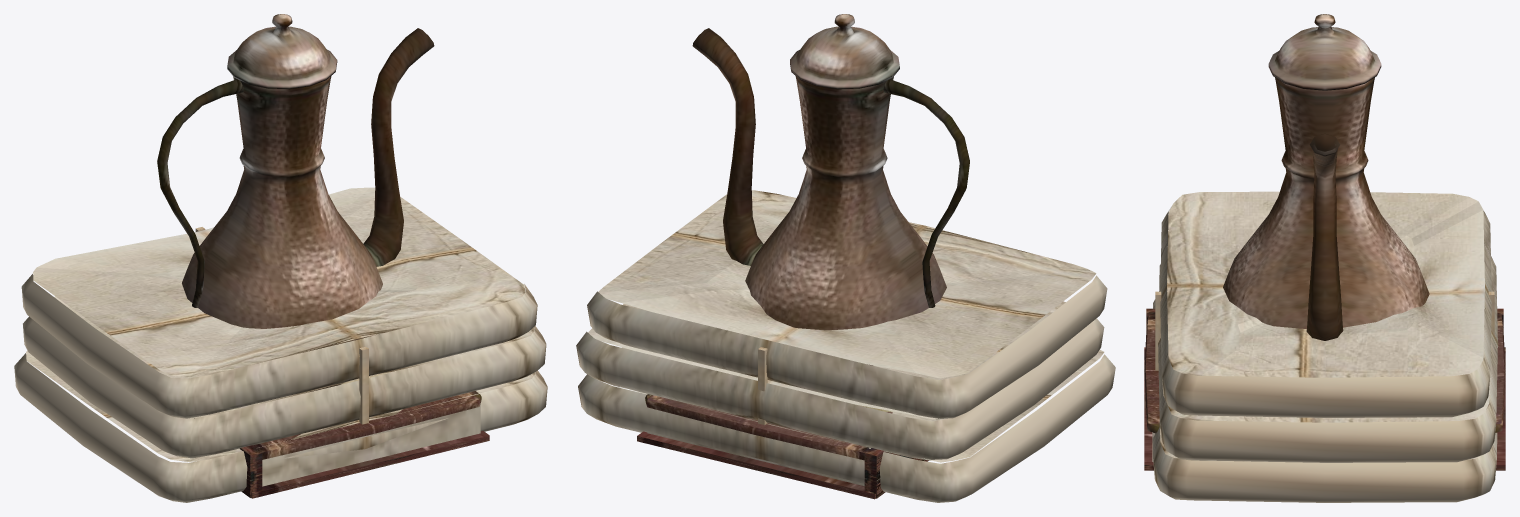
File: emanet.glb
The picture shows the model from 3 angles, left to right: view 1: azimuth 30°, elevation 25°; view 2: azimuth 150°, elevation 25°; view 3: azimuth 270°, elevation 25°; orthographic projection.
Parts seen in each view (by area): view 1: kefen, ibrik, defter; view 2: kefen, ibrik, defter; view 3: kefen, ibrik, defter.
Boxes of the visible parts, box(x1,y1,x2,y2) form: kefen: box(14, 187, 547, 502); ibrik: box(157, 14, 434, 391); defter: box(194, 391, 489, 498); kefen: box(576, 190, 1115, 502); ibrik: box(692, 14, 969, 365); defter: box(637, 394, 928, 499); kefen: box(1152, 191, 1497, 502); ibrik: box(1223, 14, 1429, 340); defter: box(1144, 308, 1505, 470).
Size of the model in its own units: 0.4678 by 0.4356 by 0.36.
Materials: 4 (4 with a texture image).
